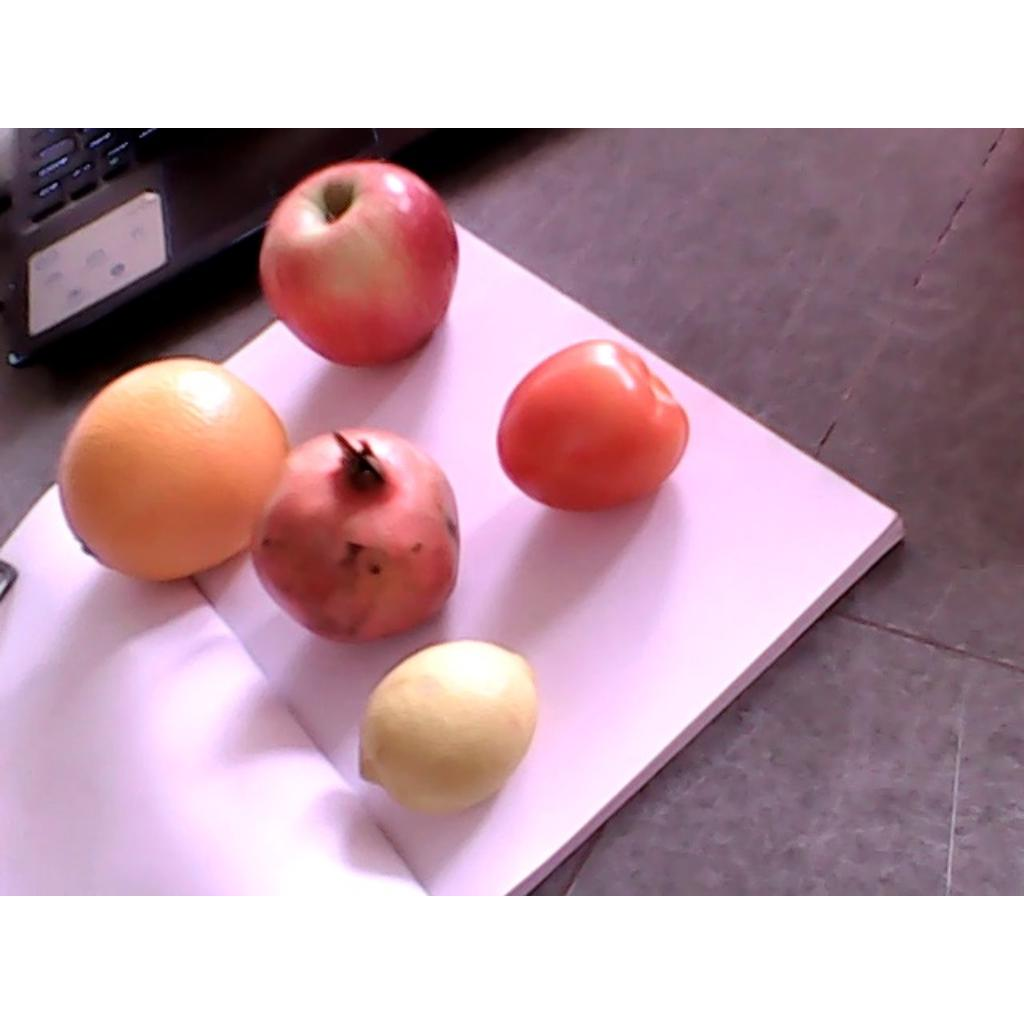apple: (259, 161, 460, 368)
lemon: (361, 639, 538, 815)
orange: (58, 358, 292, 582)
pomegranate: (252, 429, 461, 645)
tomato: (496, 338, 689, 513)
